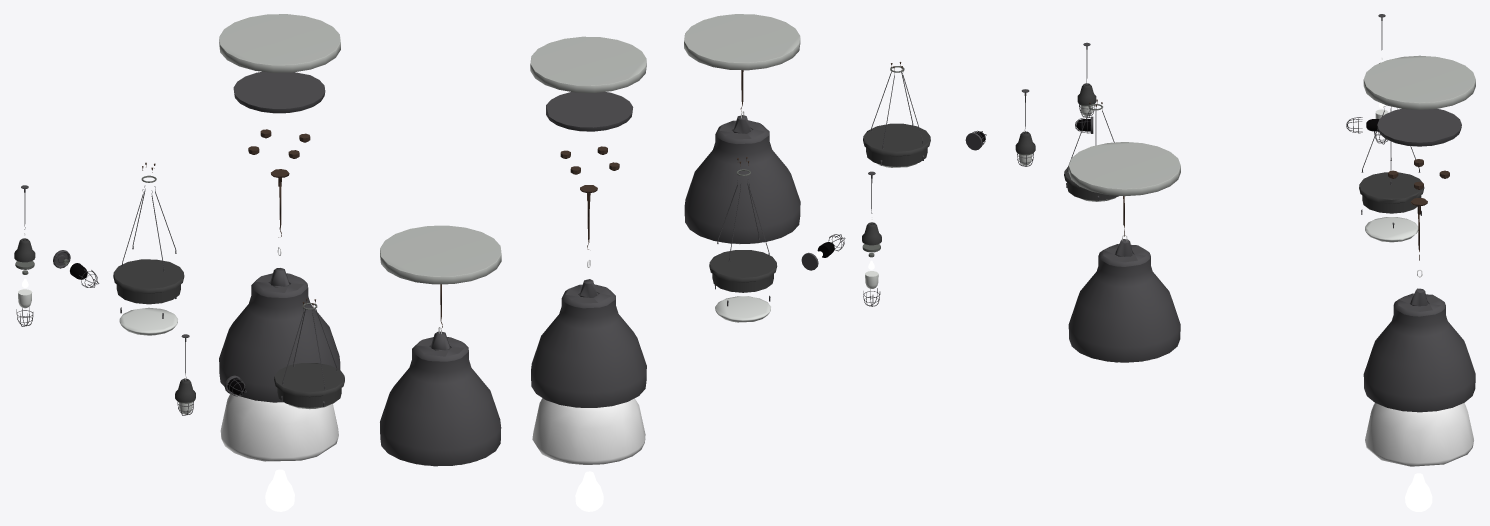
The model's file is bunker_lamps.glb.
3 renders of one model, left to right at view 1: azimuth 30°, elevation 25°; view 2: azimuth 150°, elevation 25°; view 3: azimuth 270°, elevation 25°, orthographic. The views are drawn at different scales.
Parts seen in each view (by area): view 1: CarcacaLampada (×2), BaseSustentacao (×2), CarcacaReflexiva, BaseSuspencao, polySurface15, Assets:polySurface15, polySurface16, polySurface41; view 2: CarcacaLampada (×2), BaseSustentacao (×2), CarcacaReflexiva, BaseSuspencao, polySurface15, Assets:polySurface15, polySurface16, polySurface41; view 3: CarcacaLampada (×2), BaseSustentacao (×2), CarcacaReflexiva, BaseSuspencao, polySurface15, polySurface16, polySurface41, Assets:polySurface15.
Boxes of the visible parts, box(x1,y1,x2,y2) form: CarcacaLampada (×2): box(219, 268, 501, 466); BaseSustentacao (×2): box(219, 14, 501, 284); CarcacaReflexiva: box(220, 394, 338, 461); BaseSuspencao: box(233, 71, 325, 113); polySurface15: box(113, 259, 184, 304); Assets:polySurface15: box(274, 363, 344, 407); polySurface16: box(119, 307, 177, 335); polySurface41: box(265, 469, 294, 511); CarcacaLampada (×2): box(531, 115, 800, 407); BaseSustentacao (×2): box(530, 14, 800, 92); CarcacaReflexiva: box(532, 398, 645, 464); BaseSuspencao: box(546, 92, 633, 131); polySurface15: box(709, 250, 777, 292); Assets:polySurface15: box(863, 123, 930, 166); polySurface16: box(715, 296, 770, 322); polySurface41: box(575, 471, 603, 511); CarcacaLampada (×2): box(1068, 239, 1475, 412); BaseSustentacao (×2): box(1068, 55, 1475, 196); CarcacaReflexiva: box(1365, 403, 1473, 466); BaseSuspencao: box(1377, 109, 1461, 146); polySurface15: box(1359, 172, 1424, 213); polySurface16: box(1365, 217, 1418, 242); polySurface41: box(1405, 473, 1432, 511); Assets:polySurface15: box(1064, 167, 1118, 200).
Size of the model in its own units: 42.48 by 56.44 by 48.88.
Materials: 2 (2 with a texture image).
